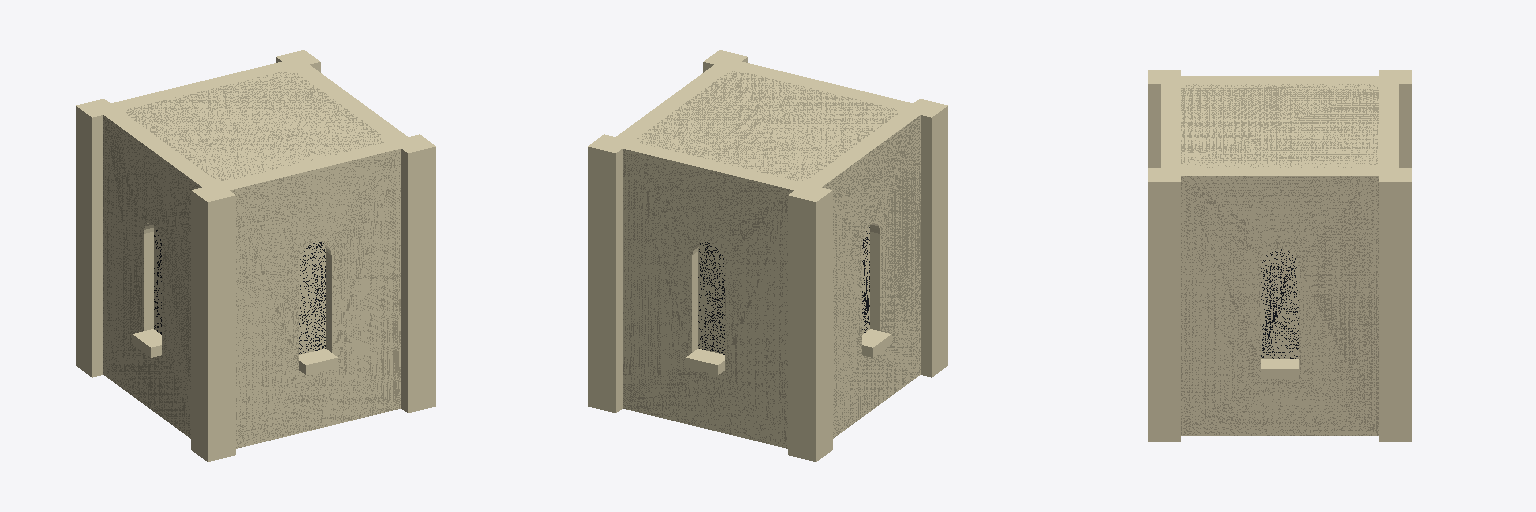
Rendered from towerSquareMidWindows.obj.
The picture shows the model from 3 angles: view 1: azimuth 30°, elevation 25°; view 2: azimuth 150°, elevation 25°; view 3: azimuth 270°, elevation 25°; orthographic projection.
Visible parts, largest first — view 1: towerSquareMidWindows; view 2: towerSquareMidWindows; view 3: towerSquareMidWindows.
Boxes of the visible parts, box(x1,y1,x2,y2) form: towerSquareMidWindows: box(76, 50, 435, 461); towerSquareMidWindows: box(588, 50, 947, 461); towerSquareMidWindows: box(1148, 70, 1411, 441).
Bounding box in the file's own units: 9.3 × 10.1 × 9.3.